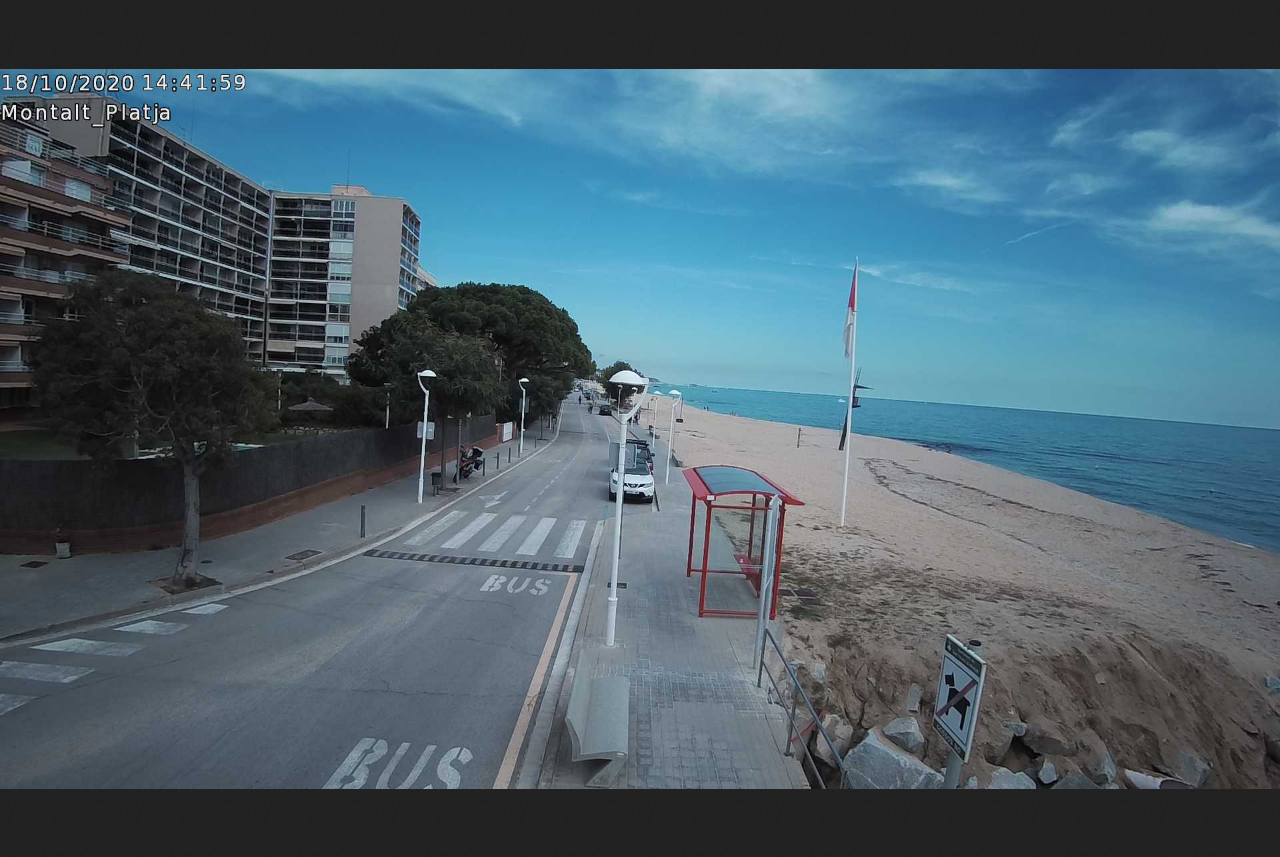no: (843, 266, 859, 356)
